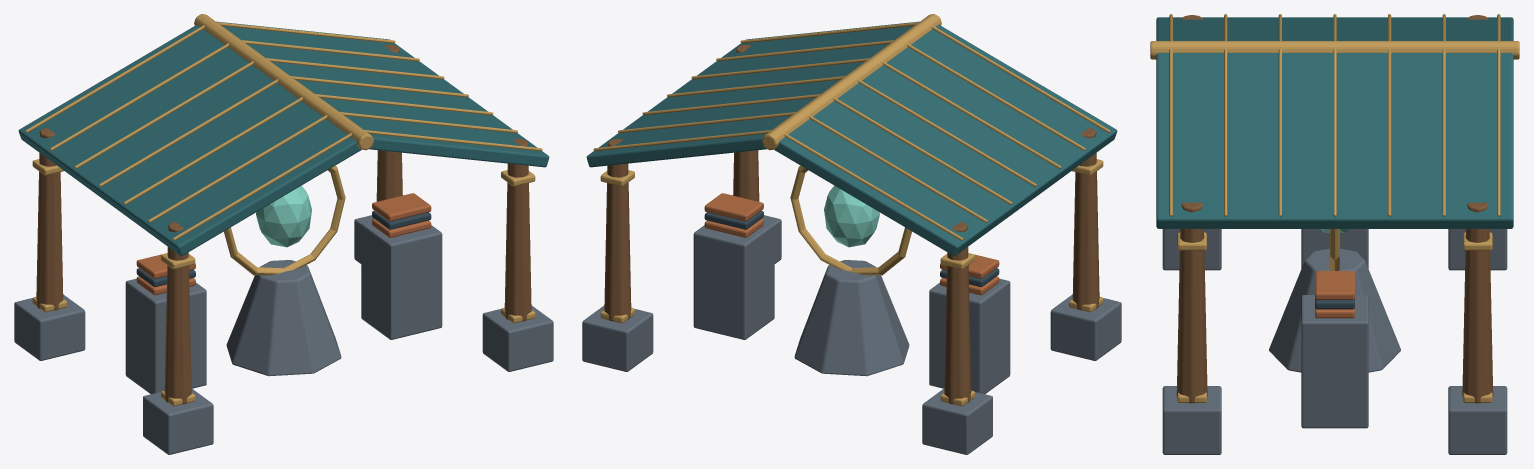
The model's file is castle_research.glb.
The picture shows the model from 3 angles, left to right: view 1: azimuth 30°, elevation 25°; view 2: azimuth 150°, elevation 25°; view 3: azimuth 270°, elevation 25°; orthographic projection. The views are drawn at different scales.
Visible parts, largest first — view 1: RoofPlane.005, StonePedestal.005, PostBand.005, CarvedPost.005, BoundTome.002, RuneCore.001, BoundTome.003; view 2: RoofPlane.005, StonePedestal.005, PostBand.005, CarvedPost.005, BoundTome.002, RuneCore.001, BoundTome.003; view 3: RoofPlane.005, StonePedestal.005, PostBand.005, CarvedPost.005, BoundTome.002, BoundTome.003.
Boxes of the visible parts, box(x1,y1,x2,y2) form: RoofPlane.005: box(18, 21, 549, 255); StonePedestal.005: box(14, 215, 553, 454); PostBand.005: box(25, 14, 542, 406); CarvedPost.005: box(36, 45, 531, 404); BoundTome.002: box(136, 193, 431, 295); RuneCore.001: box(256, 185, 311, 247); BoundTome.003: box(136, 210, 431, 286); RoofPlane.005: box(586, 21, 1117, 255); StonePedestal.005: box(582, 215, 1121, 454); PostBand.005: box(593, 14, 1110, 406); CarvedPost.005: box(604, 45, 1099, 404); BoundTome.002: box(704, 193, 999, 295); RuneCore.001: box(824, 185, 879, 247); BoundTome.003: box(704, 210, 999, 286); RoofPlane.005: box(1156, 17, 1513, 228); StonePedestal.005: box(1162, 229, 1507, 454); PostBand.005: box(1150, 14, 1519, 402); CarvedPost.005: box(1176, 15, 1493, 403); BoundTome.002: box(1315, 271, 1354, 318); BoundTome.003: box(1315, 299, 1354, 309).
Size of the model in its own units: 5.9 by 4.06 by 4.4.
